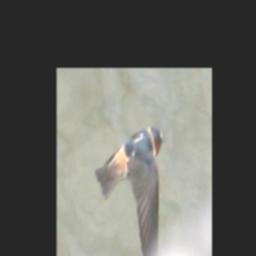Swallow: (94, 120, 165, 256)
